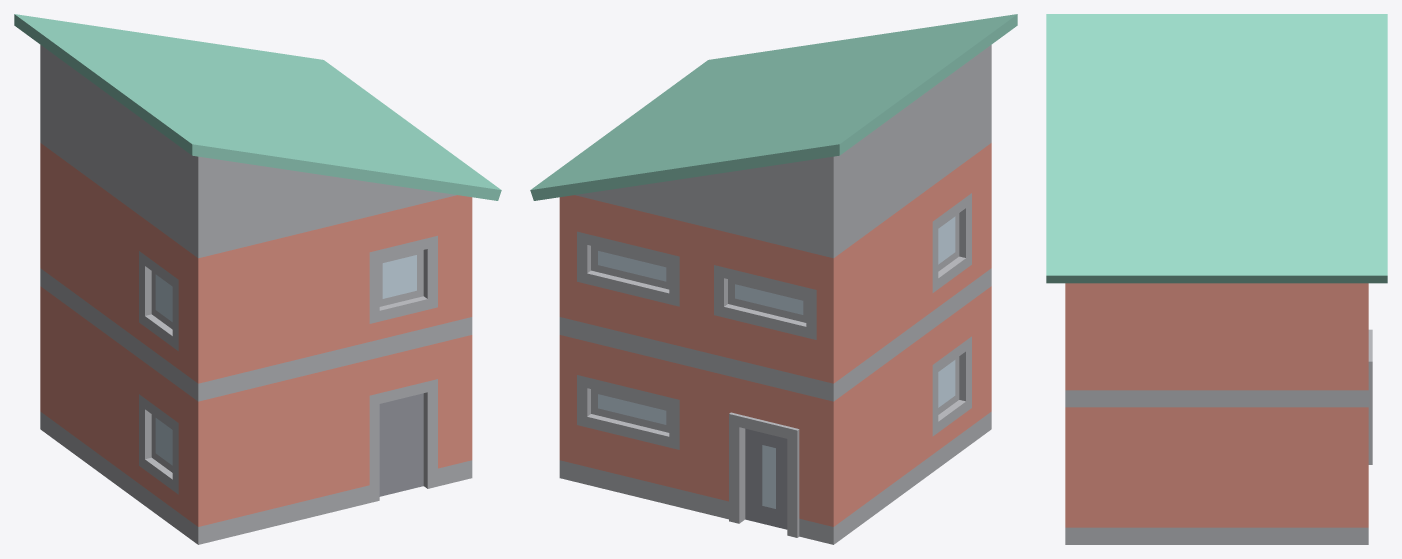
Rendered from Two story house-QsF9E0PqyN.glb.
3 views of the same model, side by side, from view 1: azimuth 30°, elevation 25°; view 2: azimuth 150°, elevation 25°; view 3: azimuth 270°, elevation 25° (orthographic). The views are drawn at different scales.
Visible parts, largest first — view 1: house_type15; view 2: house_type15; view 3: house_type15.
Part boxes in pixels (x1,y1,x2,y2): house_type15: (14, 14, 501, 544); house_type15: (530, 14, 1017, 544); house_type15: (1046, 14, 1387, 544).
Size of the model in its own units: 0.9042 by 1.15 by 0.9.
